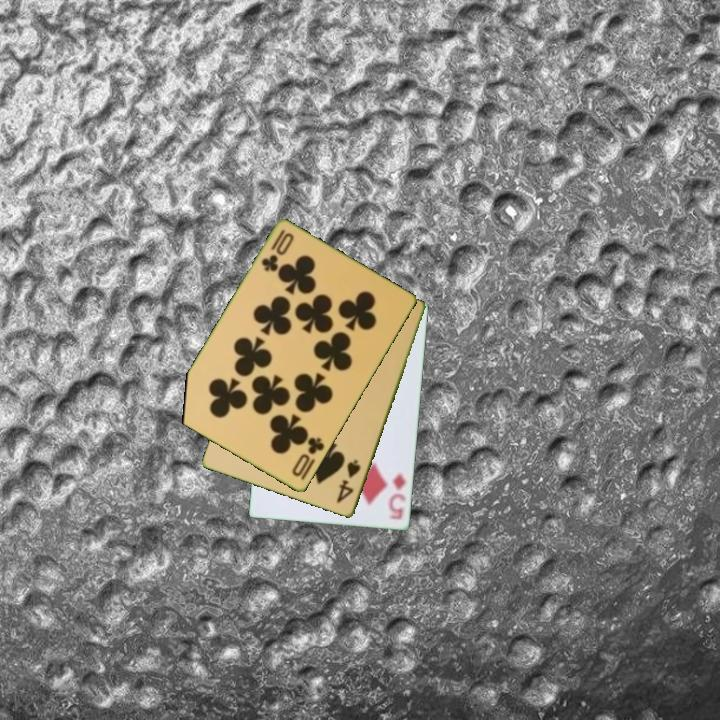10c: (258, 226, 297, 275), (288, 434, 328, 480)
4s: (333, 456, 364, 507)
5d: (385, 470, 409, 523)
